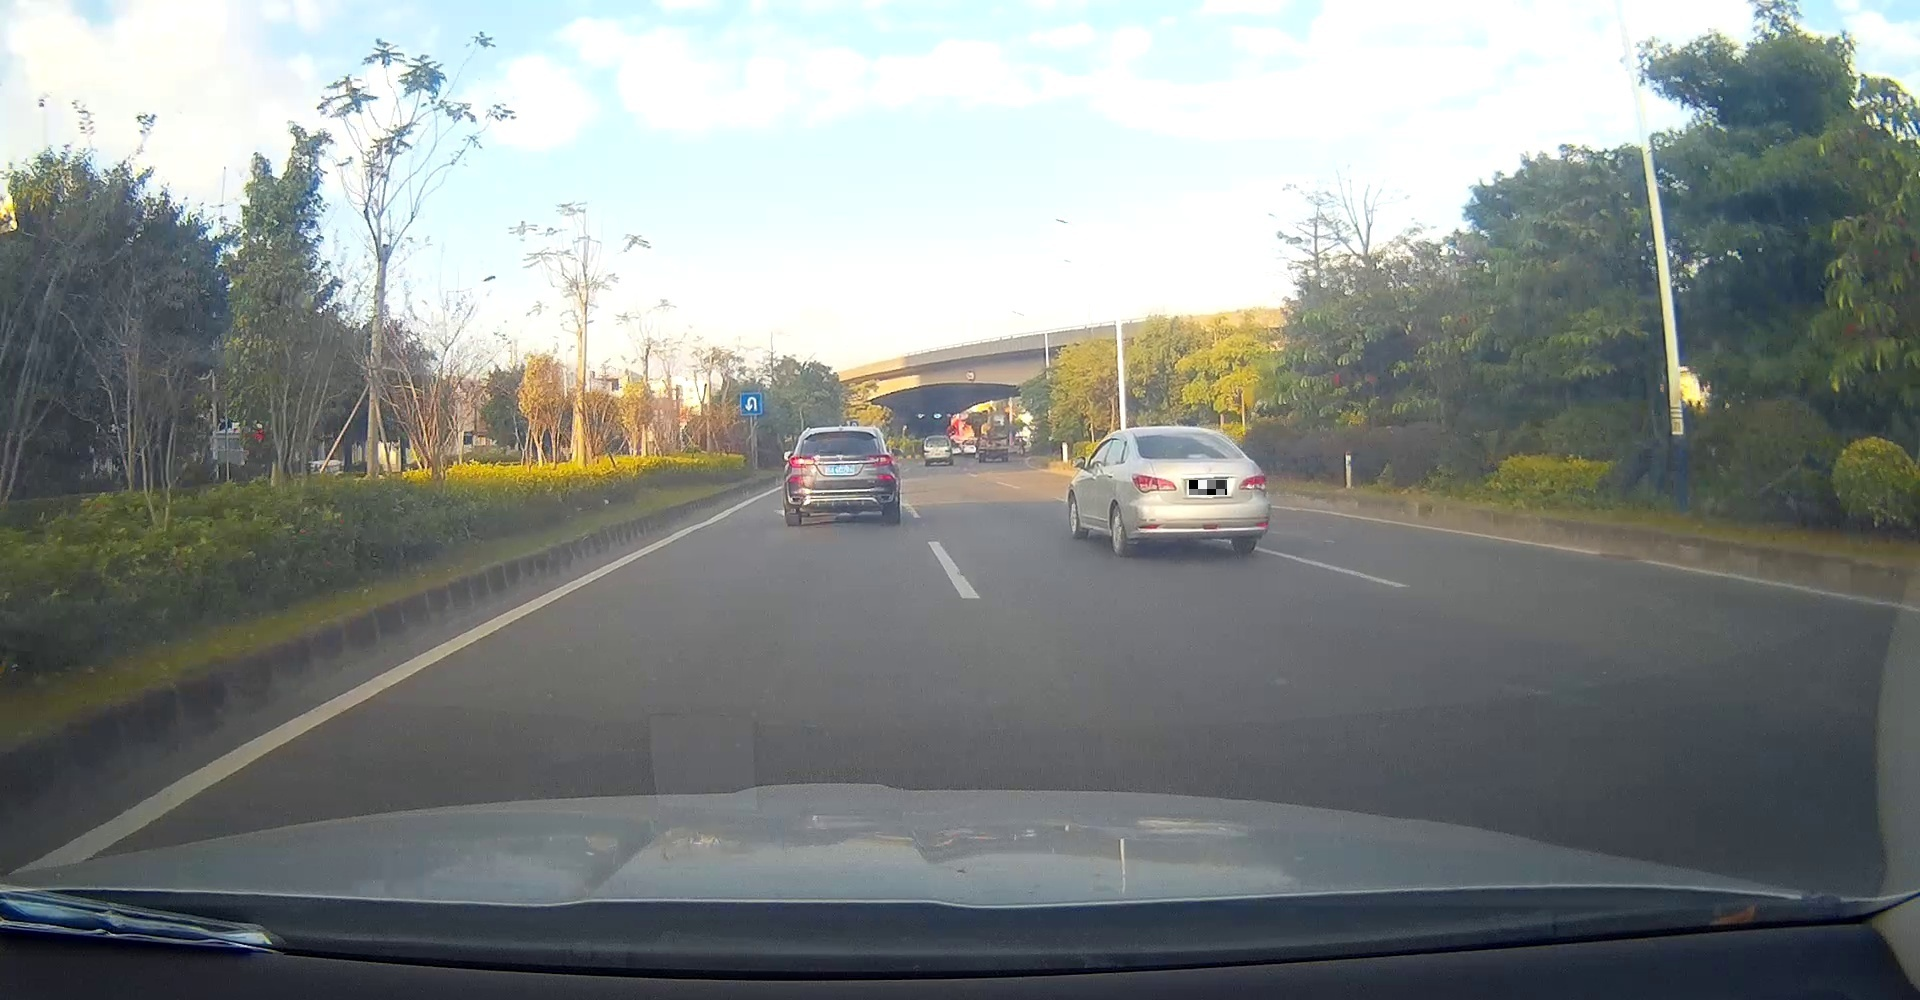L_light: (1131, 475, 1177, 494), (789, 456, 817, 468)
R_light: (1238, 473, 1267, 491), (865, 454, 894, 466)
T_light: (1187, 453, 1210, 459), (830, 431, 850, 435)
day-no: (1131, 426, 1271, 555), (783, 426, 900, 525)
plate_1: (1189, 480, 1227, 495)
